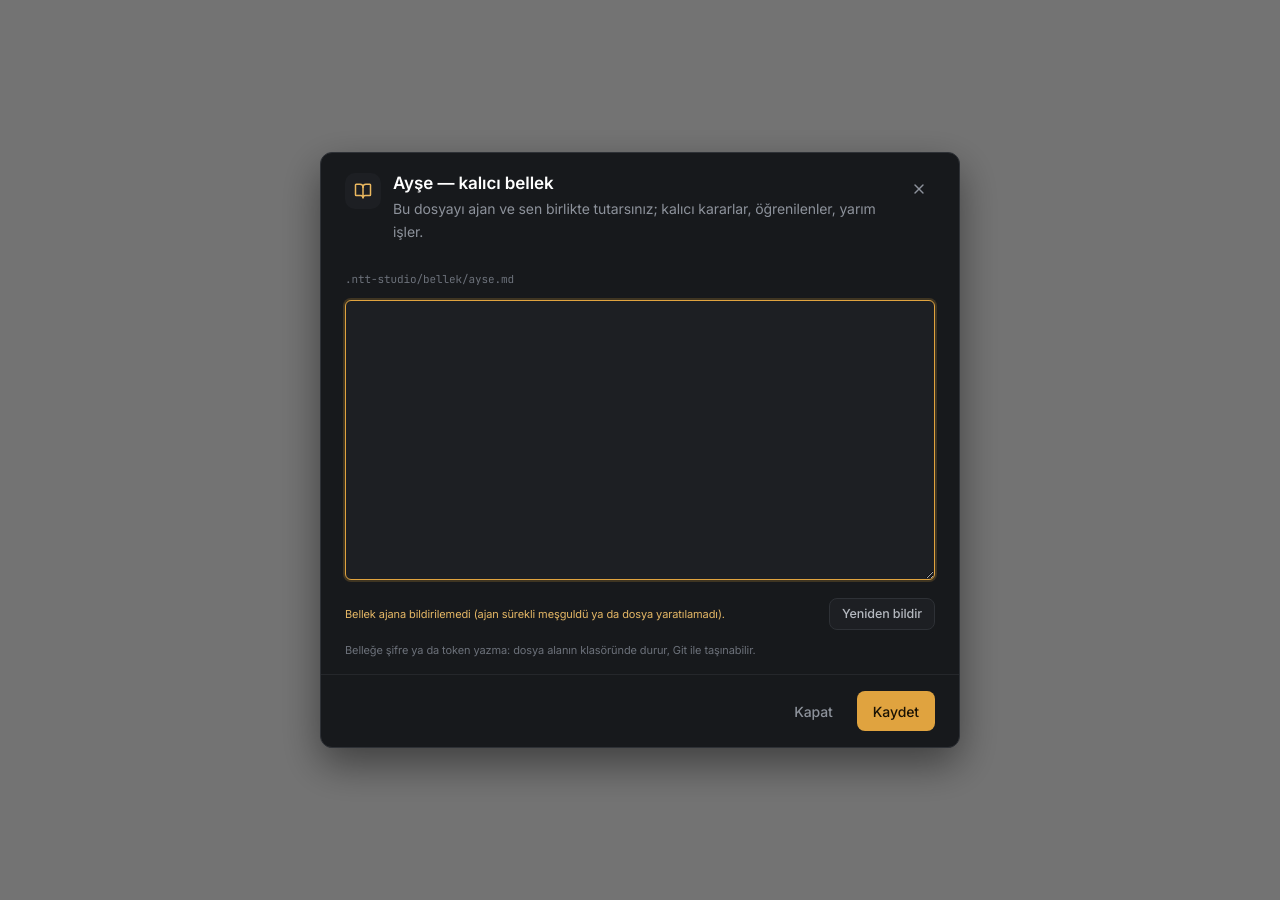
Test: MemoryDialog › bildirilemedi notu ve Yeniden bildir
Check: the text "Bellek ajana bildirilemedi" is shown, box [345, 607, 725, 621]
Click the button "Yeniden bildir" at (882, 614), box [829, 598, 935, 630]
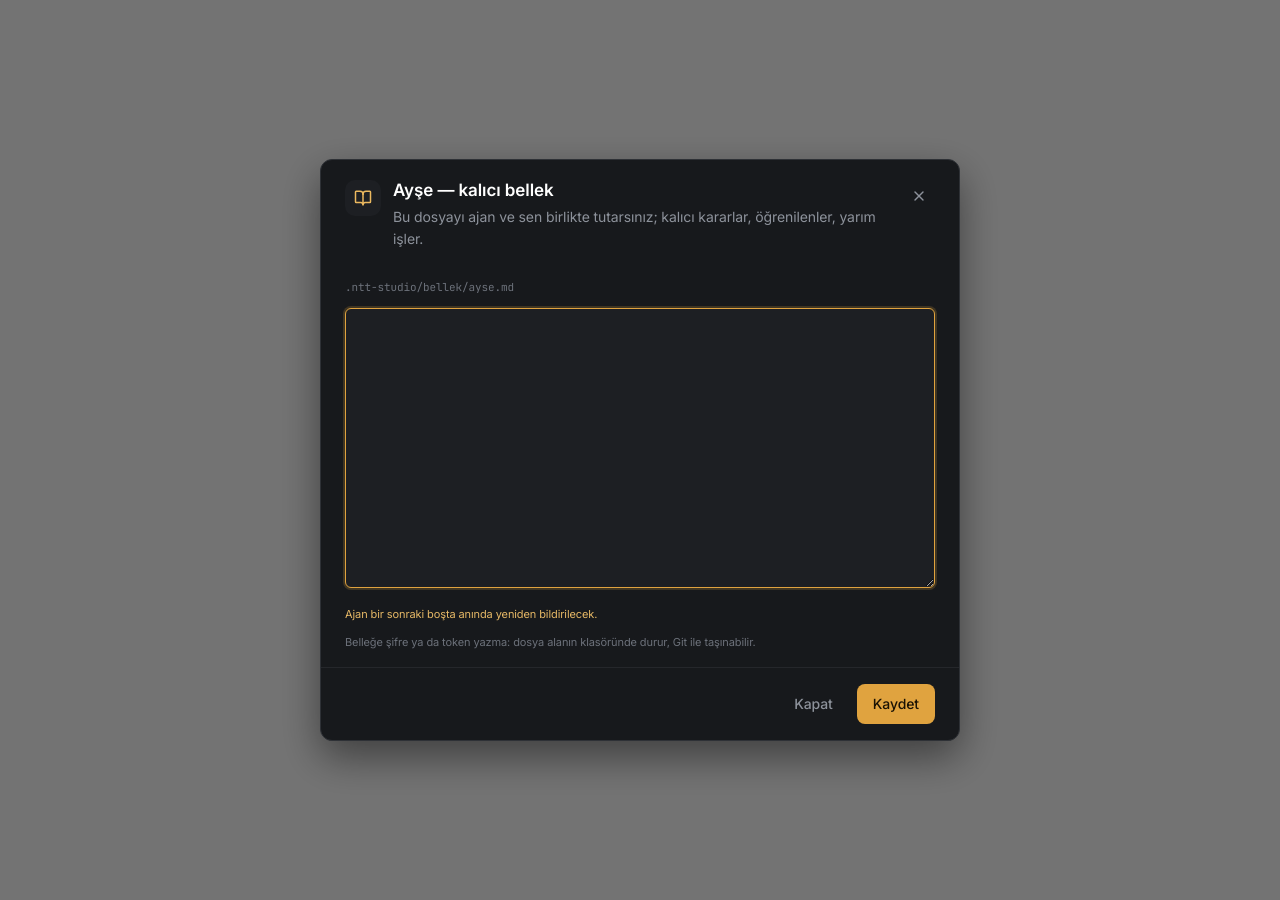
Check: the text "Ajan bir sonraki boşta anında yeniden bildirilecek." is shown, box [345, 607, 597, 621]
